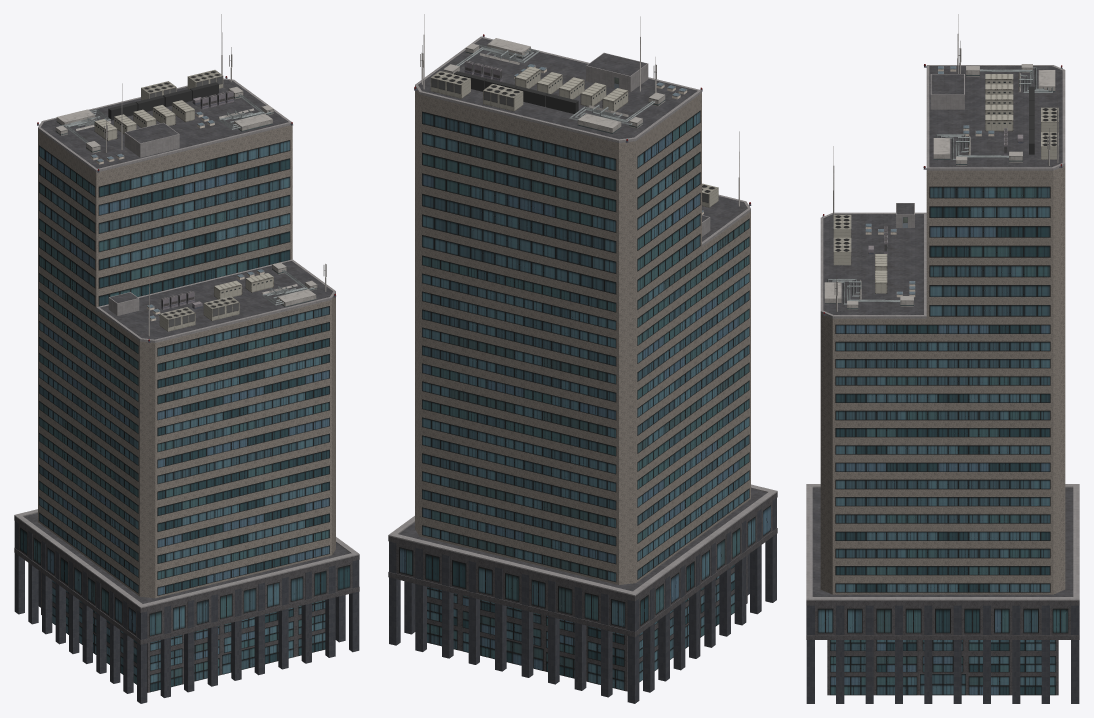
File: building_Db.FBX
3 views of the same model, side by side, from view 1: azimuth 30°, elevation 25°; view 2: azimuth 150°, elevation 25°; view 3: azimuth 270°, elevation 25° (orthographic). The views are drawn at different scales.
Parts seen in each view (by area): view 1: building_Db; view 2: building_Db; view 3: building_Db.
Boxes of the visible parts, <box> form: building_Db: <box>14,14,359,703</box>; building_Db: <box>388,14,777,703</box>; building_Db: <box>806,14,1079,703</box>.
Size of what is drawn, in the model's own units: 1979 by 1979 by 4807.
